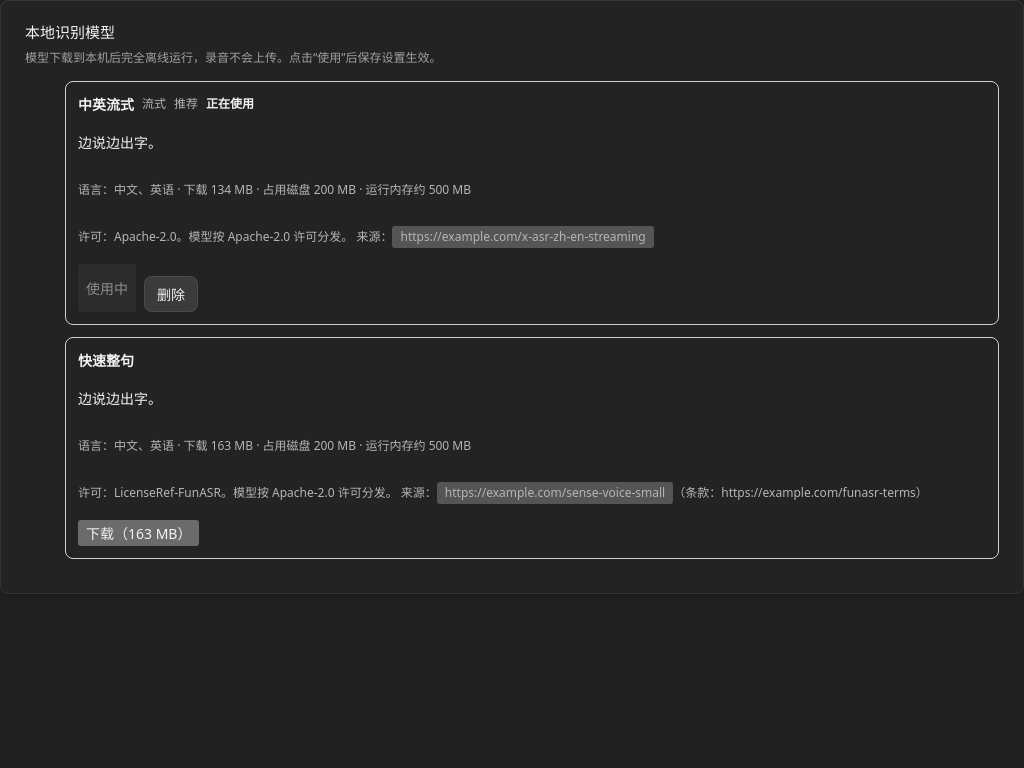
Test: a later download does not replace the model in use
Click the button "下载（163 MB）": (139, 533) [78,520,200,546]
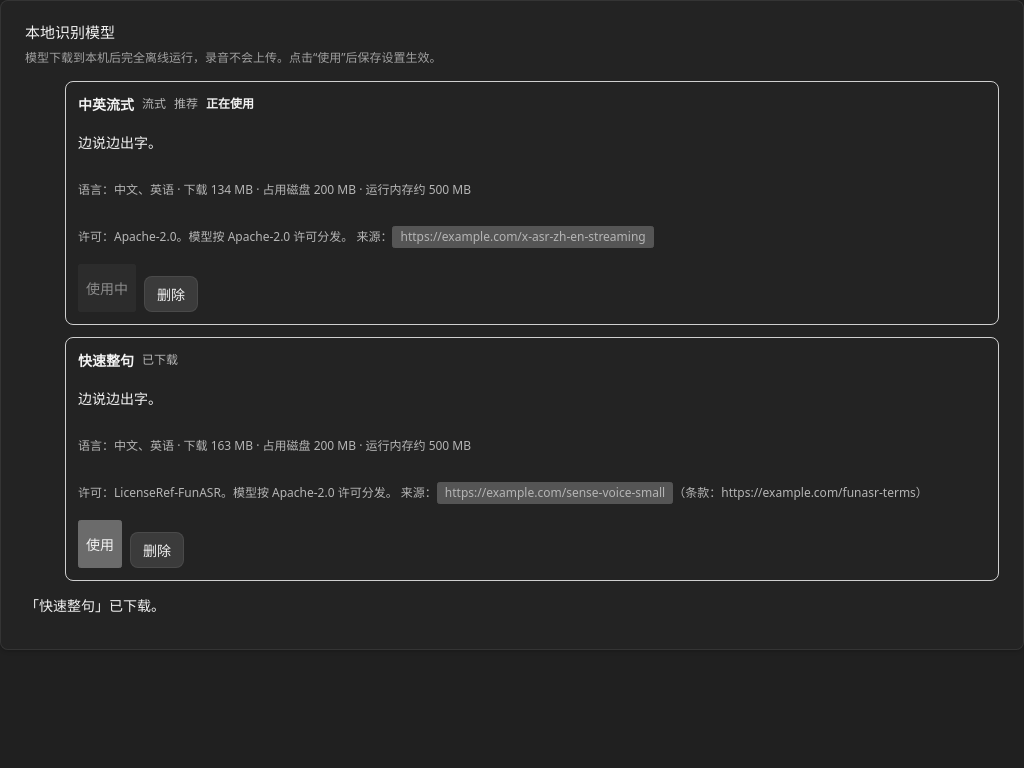
Result: the button "使用" is shown at [78,520,122,568]
